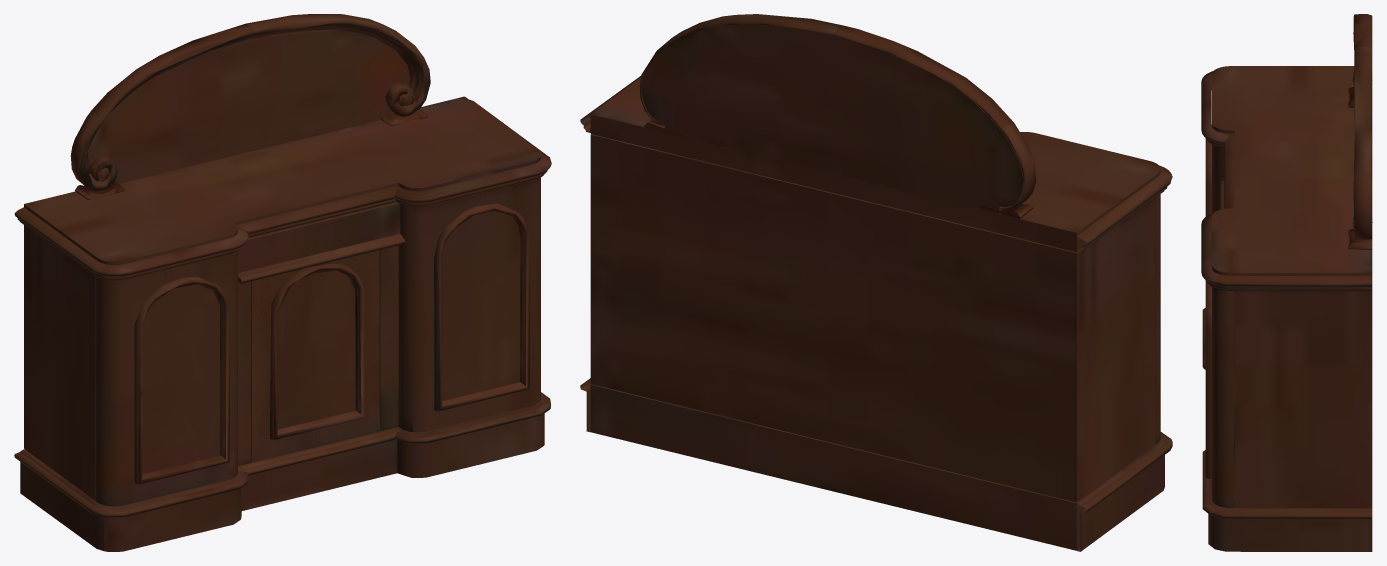
The model's file is sideboard.glb.
3 renders of one model, left to right at view 1: azimuth 30°, elevation 25°; view 2: azimuth 150°, elevation 25°; view 3: azimuth 270°, elevation 25°, orthographic. The views are drawn at different scales.
Visible parts, largest first — view 1: Object_3; view 2: Object_3; view 3: Object_3.
Part boxes in pixels (x1=…): Object_3: x1=14, y1=14, x2=551, y2=551; Object_3: x1=580, y1=14, x2=1172, y2=551; Object_3: x1=1201, y1=14, x2=1372, y2=551.
Bounding box in the file's own units: 1.7 × 1.47 × 0.5681.
1 material, 1 textured.
